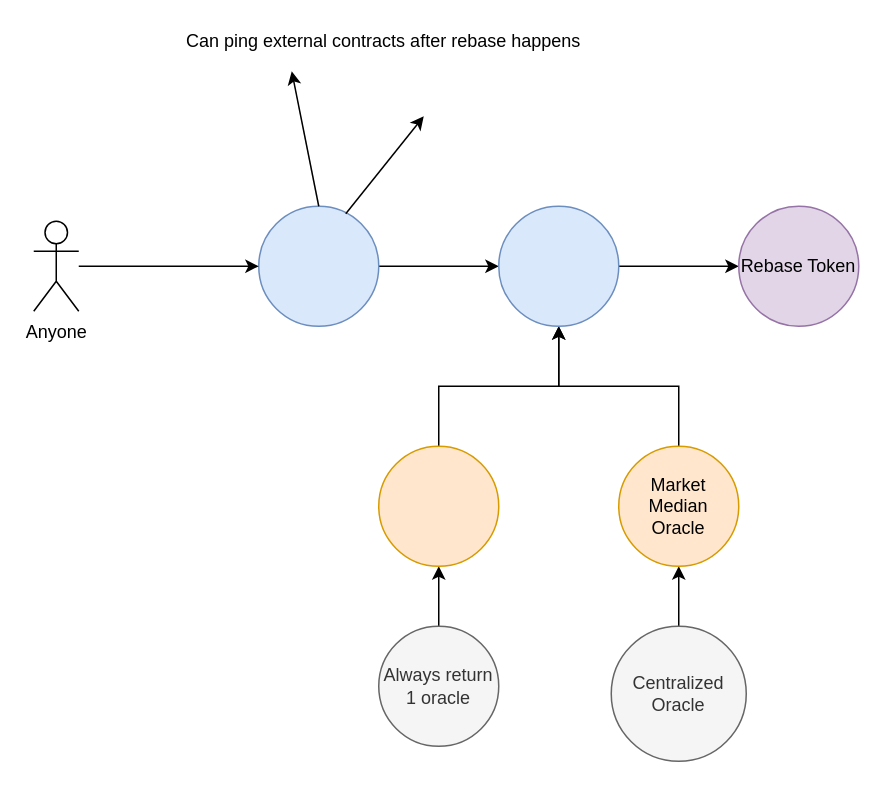
Some shapes in this 885 by 788 pixel diagram are drawn without their labels. Each missing label, with the centre of its shape:
"CPI Median Oracle" goes at point (438, 505).
"Orchestrator" goes at point (318, 265).
"Supply Policy" goes at point (558, 265).
